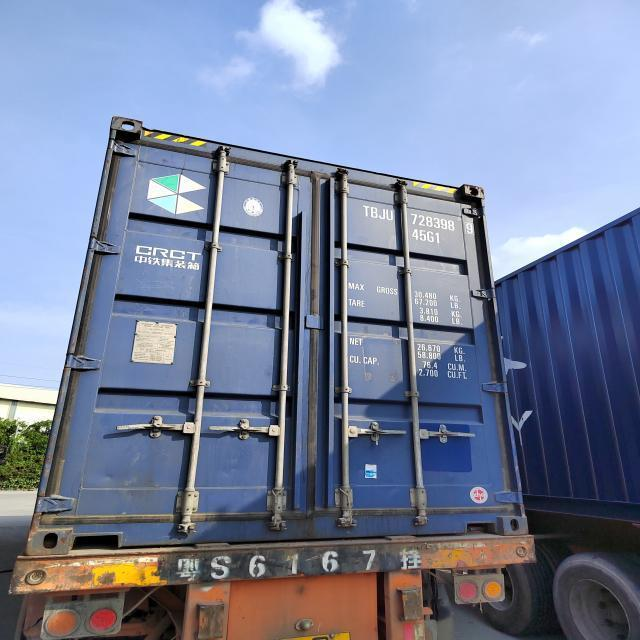ISO: (408, 230, 442, 248)
container_number: (360, 207, 454, 230)
